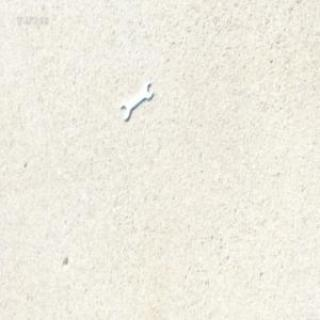Wrenchtrack_idkeyframe: (119, 81, 152, 119)
